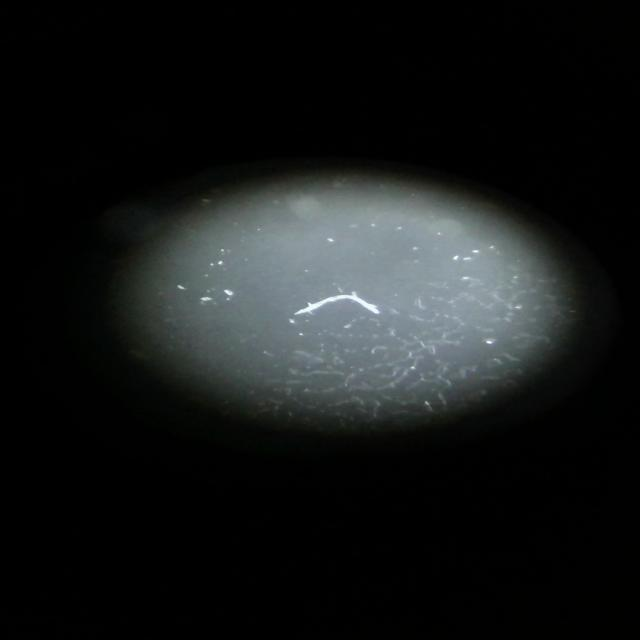psudo-nitzschia: (282, 279, 389, 325)
